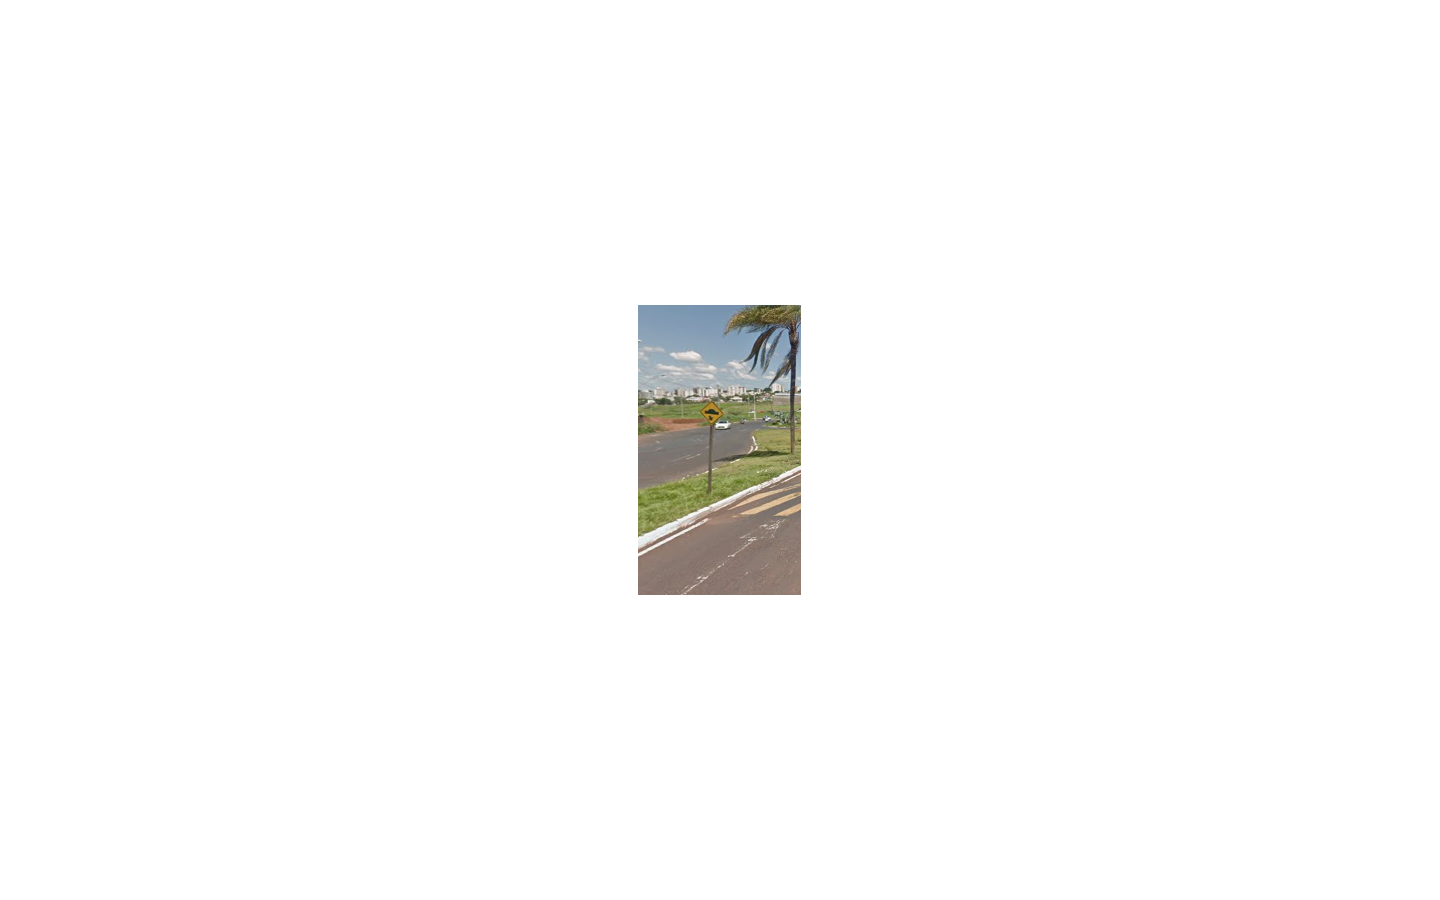lomb: (700, 401, 723, 425)
